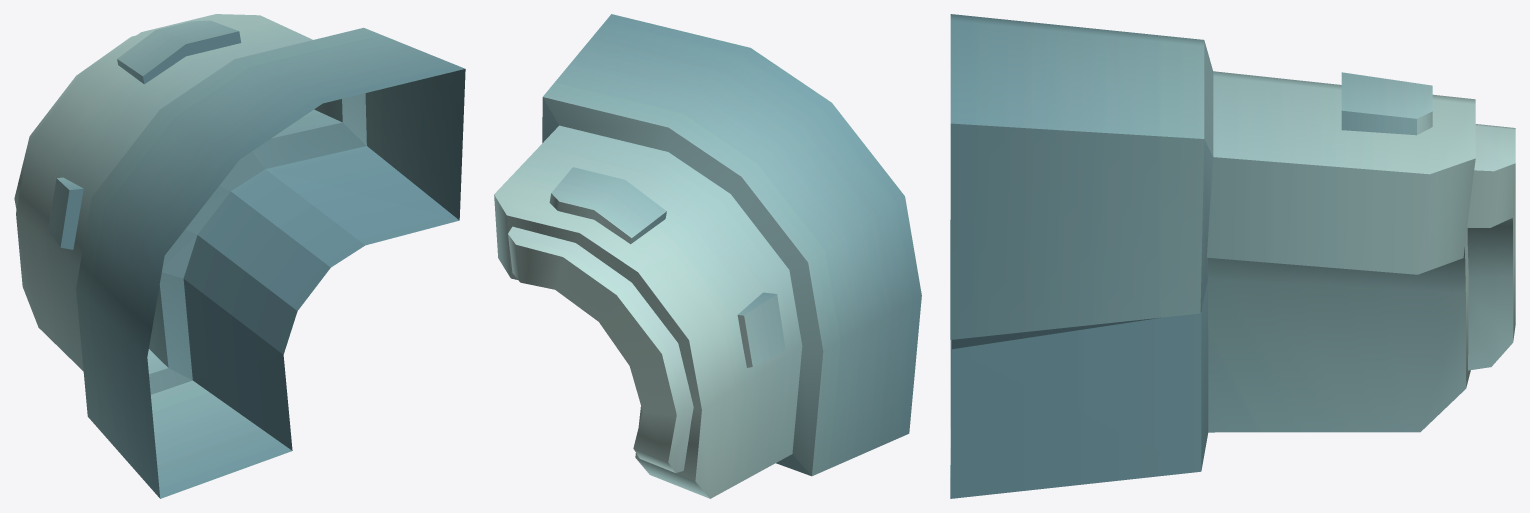
File: Stone Corner 01.FBX
The picture shows the model from 3 angles, left to right: view 1: azimuth 30°, elevation 25°; view 2: azimuth 150°, elevation 25°; view 3: azimuth 270°, elevation 25°; orthographic projection. The views are drawn at different scales.
Visible parts, largest first — view 1: Stone Corner 01; view 2: Stone Corner 01; view 3: Stone Corner 01.
Part boxes in pixels (x1,y1,x2,y2): Stone Corner 01: [14, 14, 465, 498]; Stone Corner 01: [494, 14, 921, 498]; Stone Corner 01: [950, 14, 1515, 498].
Bounding box in the file's own units: 521 × 546 × 557.
1 material, 1 textured.
